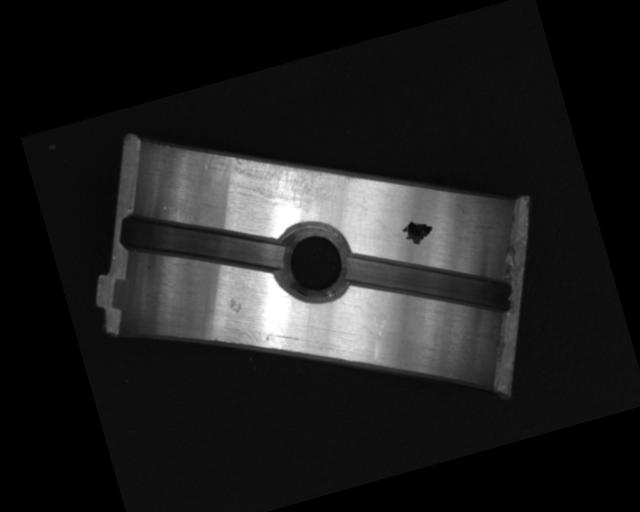blot: (398, 214, 437, 249)
bruise: (226, 295, 246, 316)
gap: (343, 216, 515, 348), (116, 178, 287, 304)
hole: (268, 213, 357, 310)
nick: (362, 307, 403, 361)
scratch: (203, 119, 348, 234)
